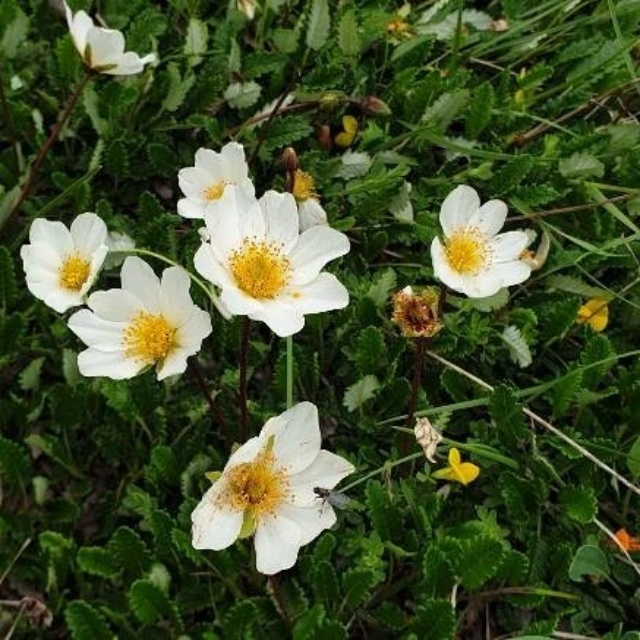obstacle: (9, 151, 371, 602), (371, 53, 603, 483), (401, 387, 634, 618)
